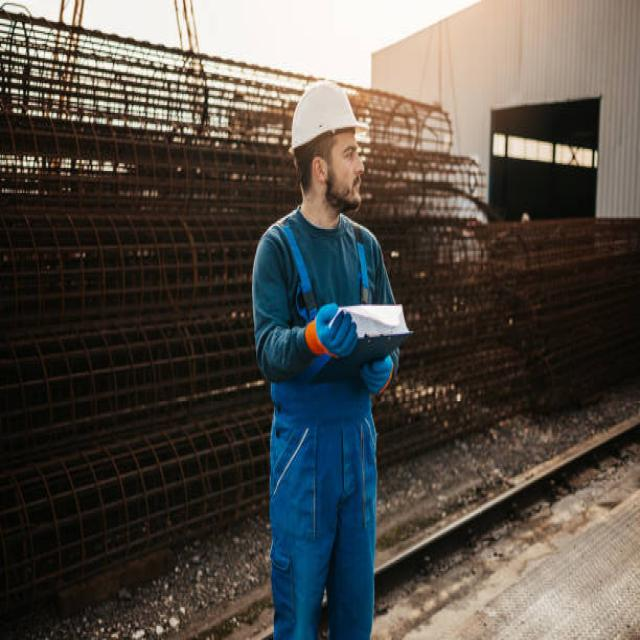Gloves: (305, 297, 358, 371), (357, 343, 406, 397)
helmet: (288, 81, 368, 157)
person: (252, 74, 413, 640)
